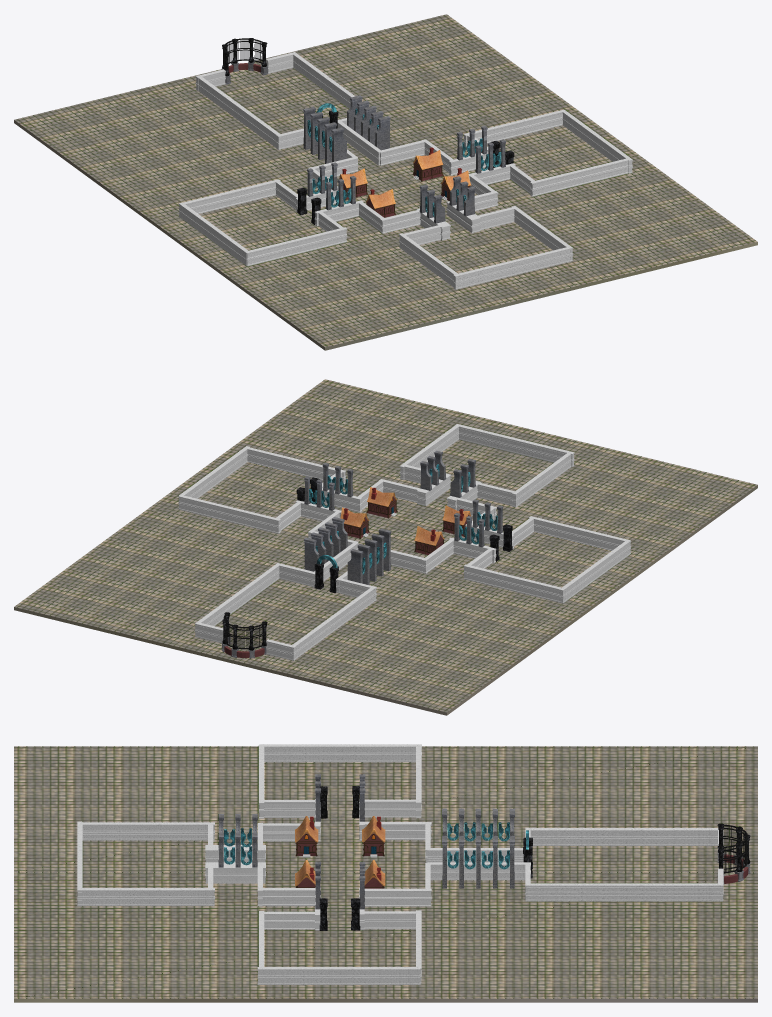
File: Map.fbx
3 renders of one model, top to bottom at view 1: azimuth 30°, elevation 25°; view 2: azimuth 150°, elevation 25°; view 3: azimuth 270°, elevation 25°, orthographic. The views are drawn at different scales.
Parts seen in each view (by area): view 1: Object100; view 2: Object100; view 3: Object100.
Boxes of the visible parts, <box> form: Object100: <box>14,14,757,350</box>; Object100: <box>14,379,757,715</box>; Object100: <box>14,744,757,1002</box>.
Size of the model in its own units: 13857 by 1309 by 17250.
18 materials, 17 textured.
